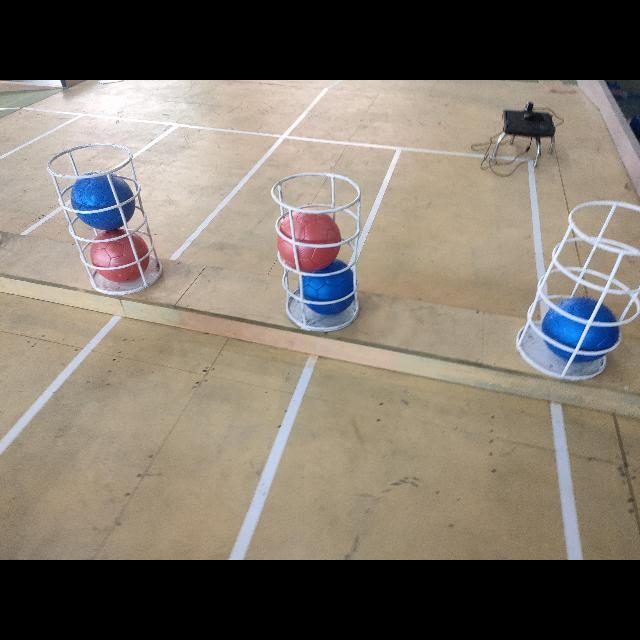B: (542, 297, 620, 363), (72, 171, 136, 231), (300, 259, 358, 315), (300, 258, 304, 266)
R: (278, 208, 340, 272), (90, 230, 150, 282)
